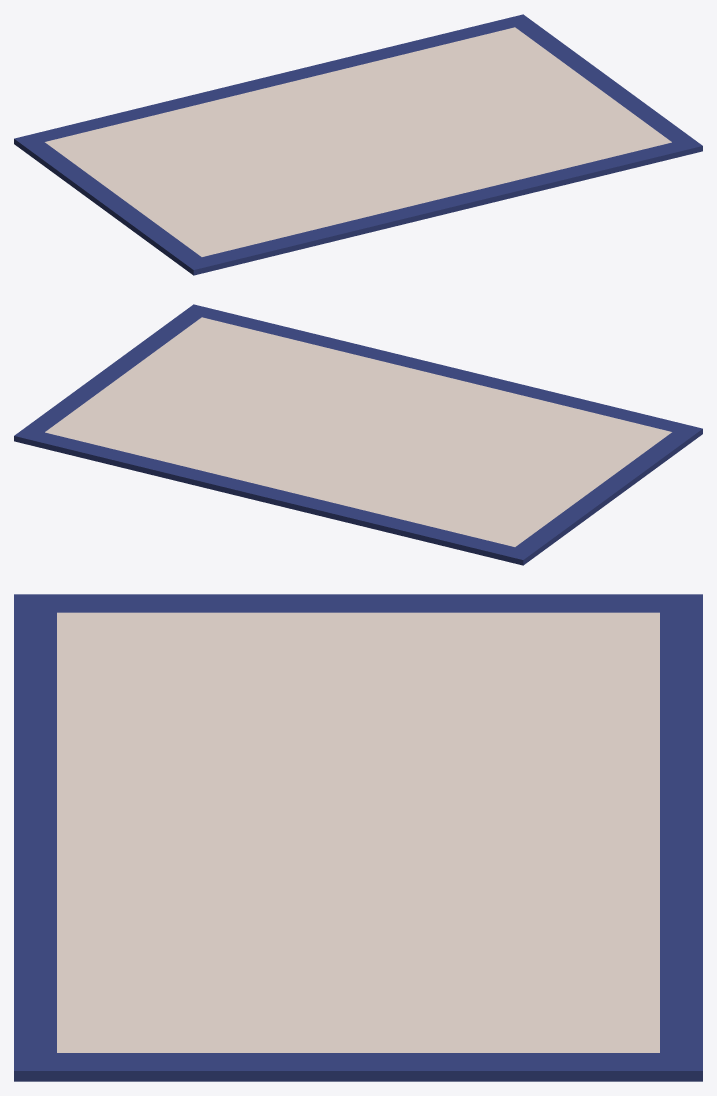
Rendered from Carpet_23.fbx.
3 renders of one model, top to bottom at view 1: azimuth 30°, elevation 25°; view 2: azimuth 150°, elevation 25°; view 3: azimuth 270°, elevation 25°, orthographic. The views are drawn at different scales.
Parts seen in each view (by area): view 1: Carpet_23; view 2: Carpet_23; view 3: Carpet_23.
Boxes of the visible parts, bbox=[...] form: Carpet_23: bbox=[14, 14, 702, 275]; Carpet_23: bbox=[14, 304, 702, 565]; Carpet_23: bbox=[14, 594, 702, 1081].
Bounding box in the file's own units: 266 × 163 × 2.74.
